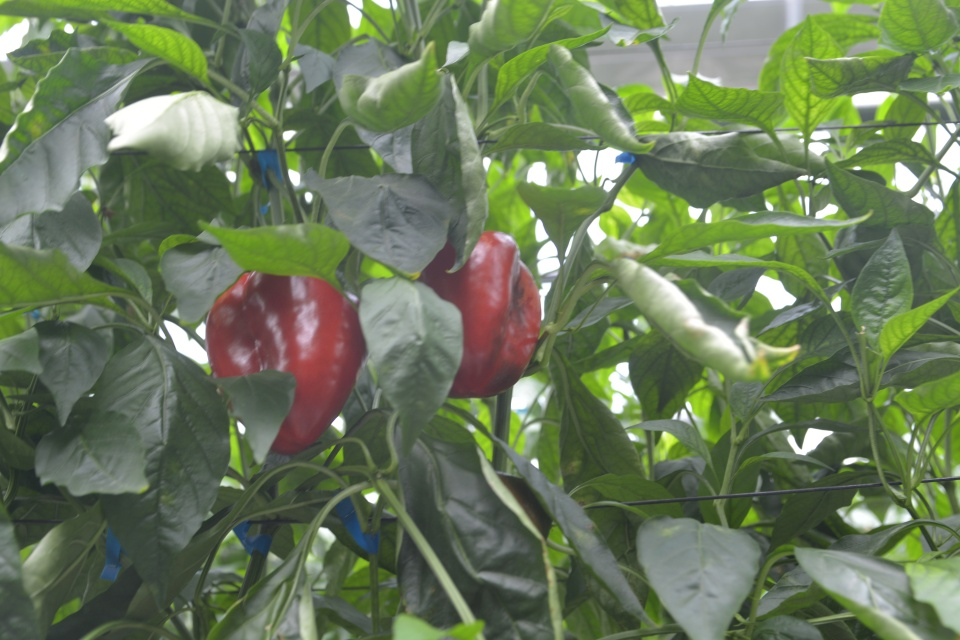fruit: (203, 266, 367, 458), (419, 228, 544, 401)
